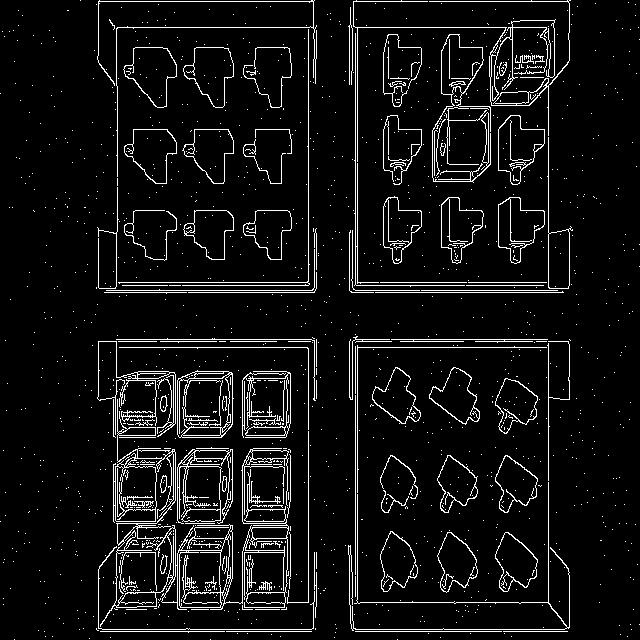Pump: (490, 21, 558, 105), (116, 526, 175, 609), (114, 449, 175, 524), (178, 525, 232, 609), (432, 108, 490, 182), (115, 371, 175, 438), (242, 526, 290, 609), (179, 449, 232, 522), (242, 449, 290, 524), (179, 371, 232, 438), (242, 371, 291, 438)
Regulator: (495, 455, 540, 514), (495, 532, 538, 592), (438, 531, 478, 592), (494, 379, 538, 434), (438, 455, 478, 514), (380, 531, 418, 592), (380, 455, 418, 514)
Sensor: (498, 115, 545, 184), (124, 46, 178, 106), (441, 34, 484, 106), (499, 198, 545, 264), (184, 48, 234, 108), (124, 129, 178, 184), (429, 368, 480, 425), (244, 48, 292, 108), (384, 34, 422, 108), (441, 198, 484, 263), (184, 129, 234, 184), (124, 210, 178, 260), (384, 115, 422, 185), (382, 198, 422, 264), (372, 368, 419, 424), (184, 210, 234, 259), (244, 210, 292, 260), (255, 129, 292, 184)
